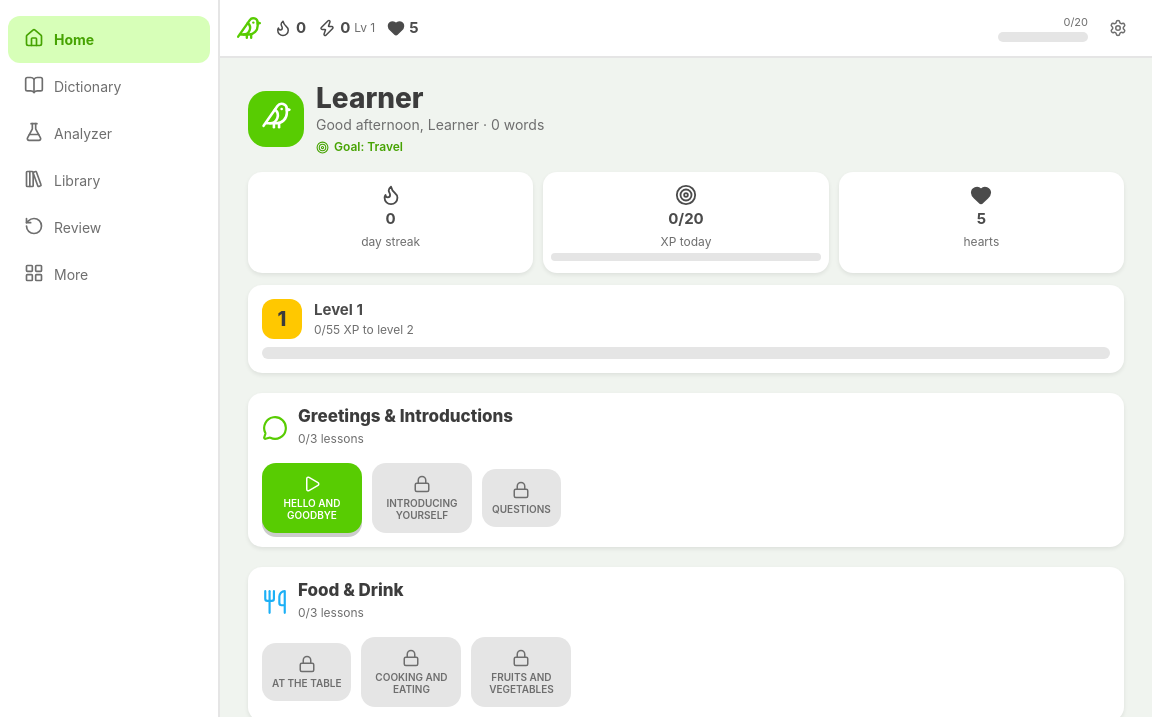
App › opens the profile hub from the home hero
Expected: the heading "Learner" is shown, [316, 81, 424, 115]
Click the button named "open your profile" at [686, 119], box [248, 82, 1124, 156]
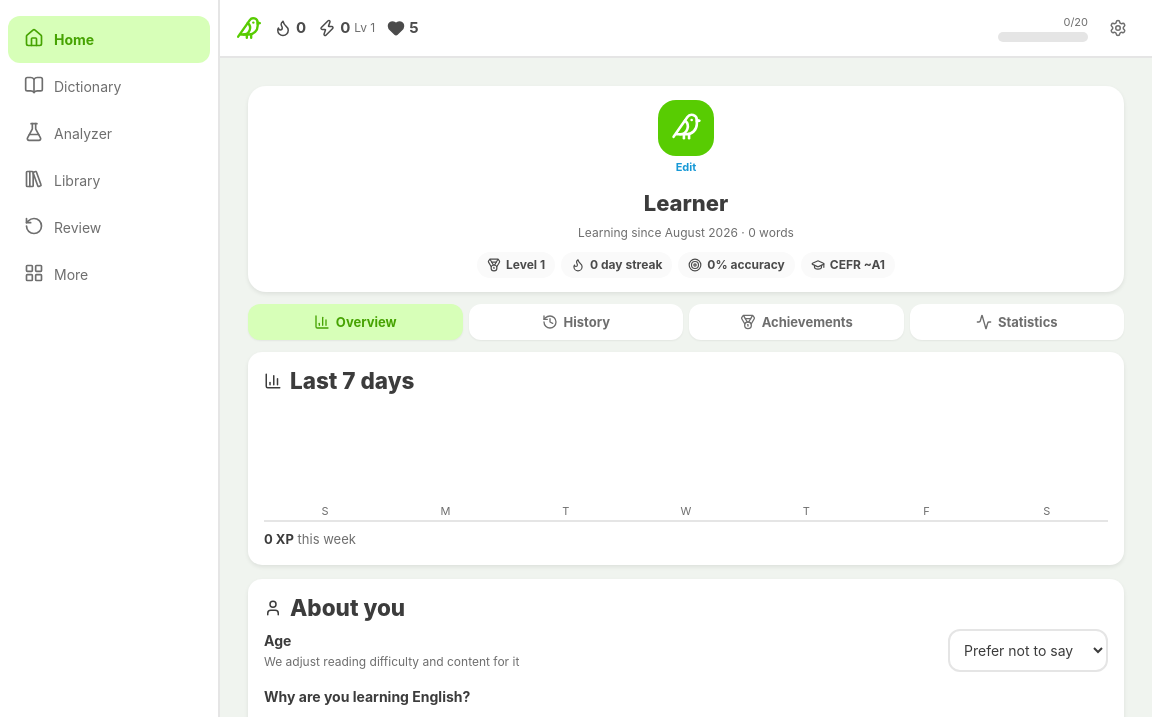
Expected: the button "History" is shown, [468, 304, 683, 340]
Expected: the button "Achievements" is shown, [689, 304, 904, 340]
Expected: the button "Overview" is shown, [248, 304, 462, 340]
